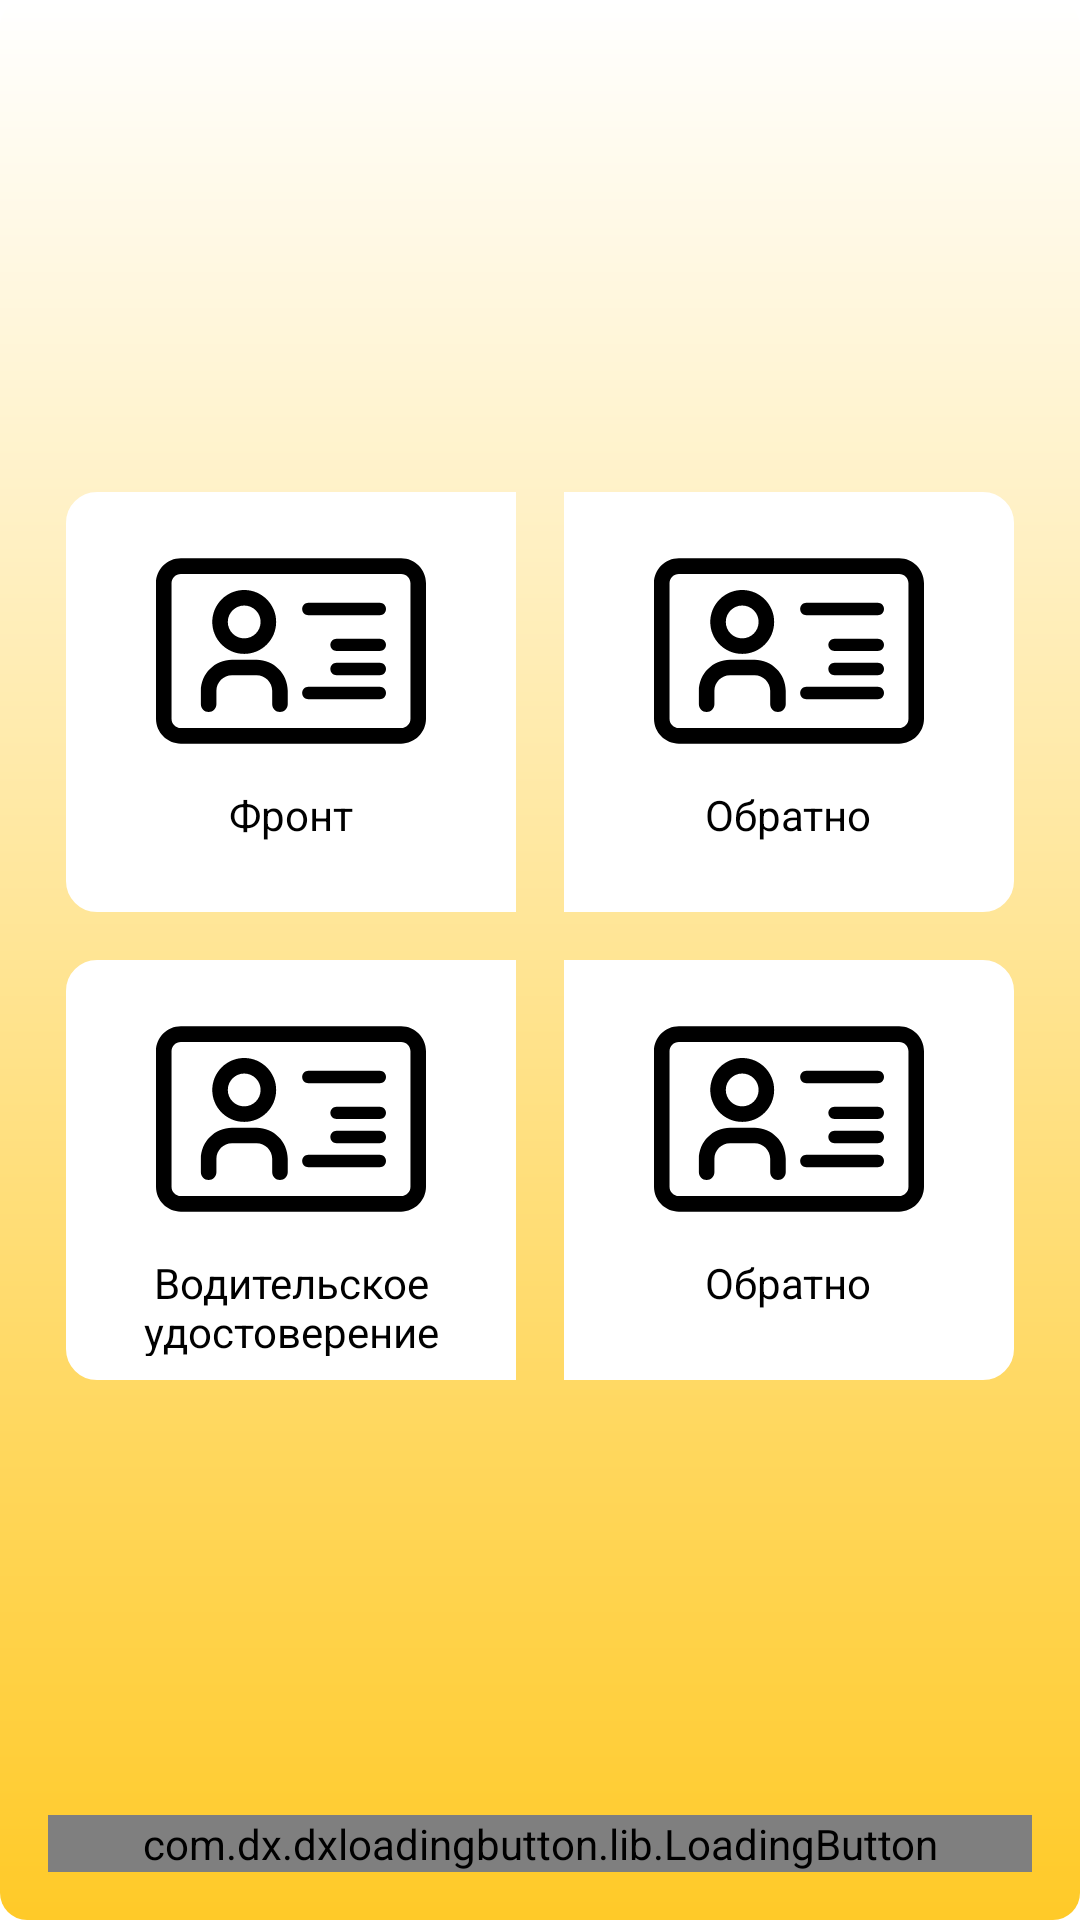

Locate icon controls on the screen. Image size 1080x1920, boxes as (x1, y1, x2, y2).
id card: (156, 558, 426, 744), (654, 558, 924, 744), (156, 1026, 426, 1212), (654, 1026, 924, 1212)
